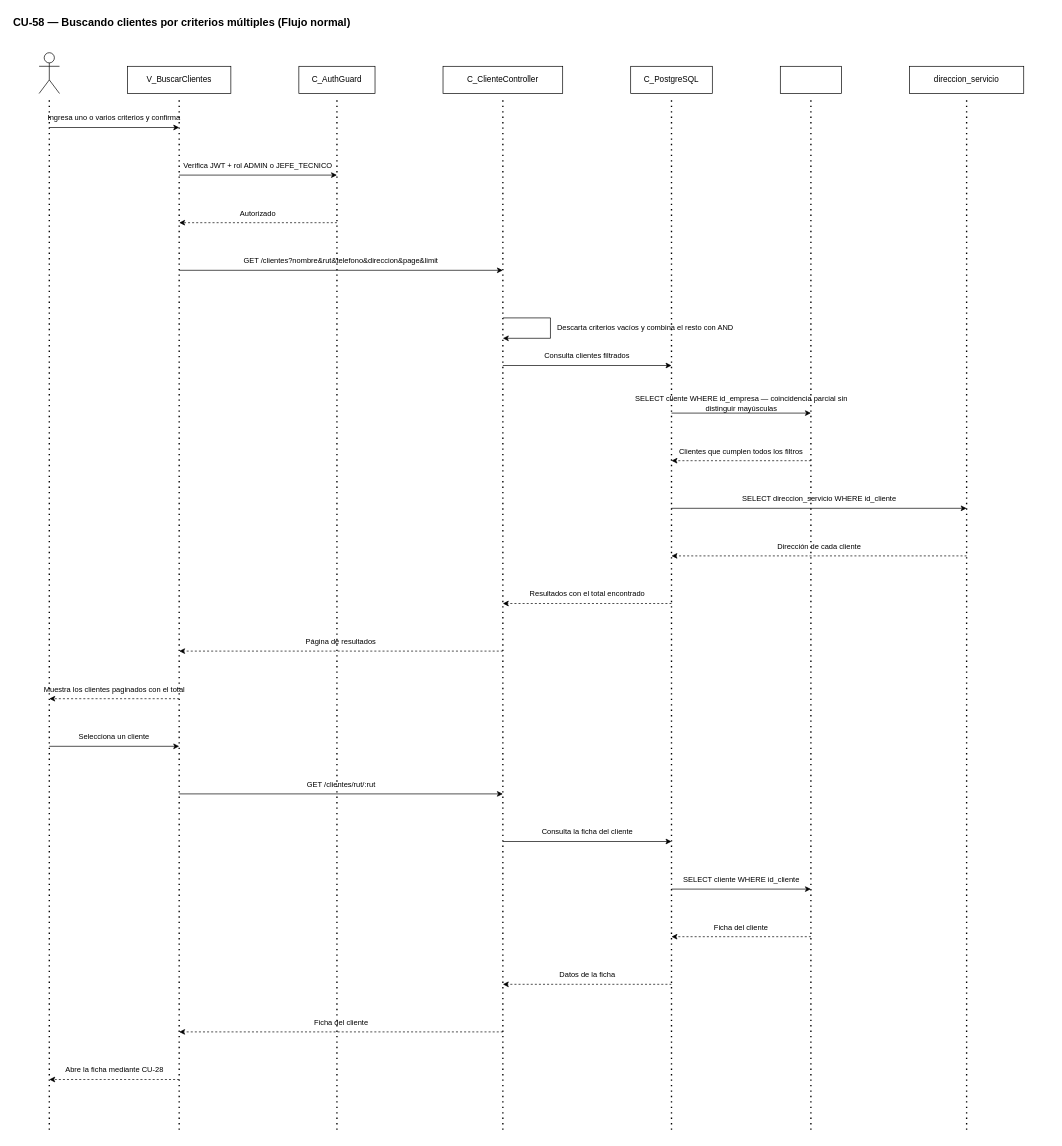
Image size: 1062x1146. Some labels were removed from this diagram. Each missing label, with the centre of its shape:
"cliente" goes at [811,80].
"Jefe Técnico" goes at [49,73].
